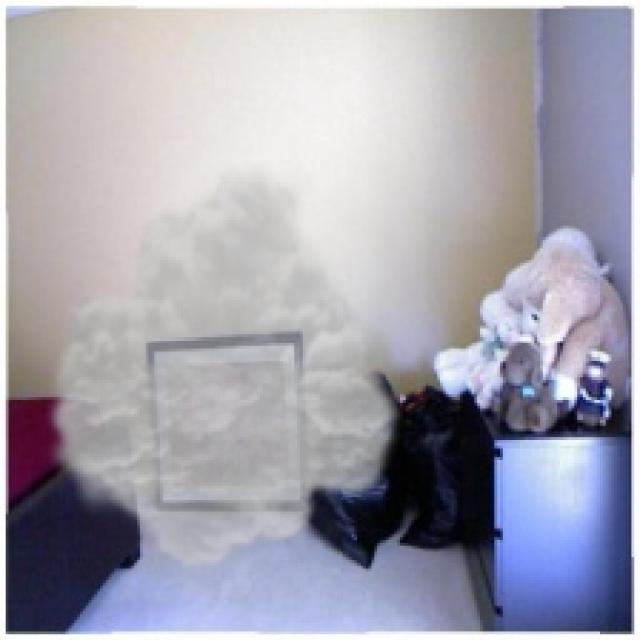smoke: (40, 160, 409, 574)
